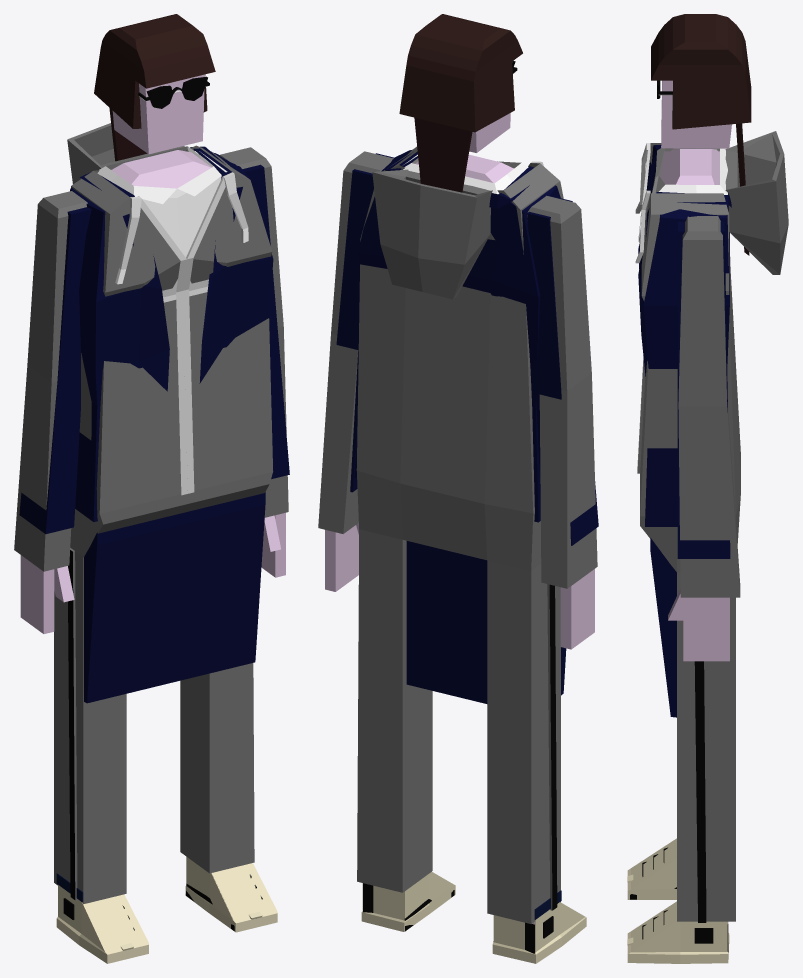
Rendered from woman.glb.
3 renders of one model, left to right at view 1: azimuth 30°, elevation 25°; view 2: azimuth 150°, elevation 25°; view 3: azimuth 270°, elevation 25°, orthographic.
Visible parts, largest first — view 1: woman_sport, woman_formal, woman_body, woman_hair_1, woman_casual, woman_sunglasses, woman_hair_2; view 2: woman_sport, woman_formal, woman_hair_1, woman_body, woman_hair_2, woman_casual; view 3: woman_sport, woman_formal, woman_hair_1, woman_body, woman_casual, woman_hair_2.
Part boxes in pixels (x1=…): woman_sport: x1=14, y1=123, x2=288, y2=963; woman_formal: x1=19, y1=146, x2=289, y2=930; woman_body: x1=20, y1=74, x2=285, y2=633; woman_hair_1: x1=94, y1=14, x2=215, y2=128; woman_casual: x1=56, y1=151, x2=261, y2=946; woman_sunglasses: x1=138, y1=76, x2=209, y2=108; woman_hair_2: x1=109, y1=108, x2=147, y2=161; woman_sport: x1=318, y1=146, x2=597, y2=963; woman_formal: x1=336, y1=150, x2=598, y2=953; woman_hair_1: x1=399, y1=14, x2=522, y2=132; woman_body: x1=325, y1=113, x2=594, y2=649; woman_hair_2: x1=414, y1=117, x2=472, y2=192; woman_casual: x1=404, y1=154, x2=561, y2=953; woman_sport: x1=627, y1=131, x2=788, y2=963; woman_formal: x1=630, y1=145, x2=731, y2=952; woman_hair_1: x1=651, y1=14, x2=751, y2=129; woman_body: x1=660, y1=80, x2=731, y2=661; woman_casual: x1=627, y1=146, x2=676, y2=942; woman_hair_2: x1=736, y1=123, x2=749, y2=255.
Size of the model in its own units: 0.4797 by 1.67 by 0.2732.
